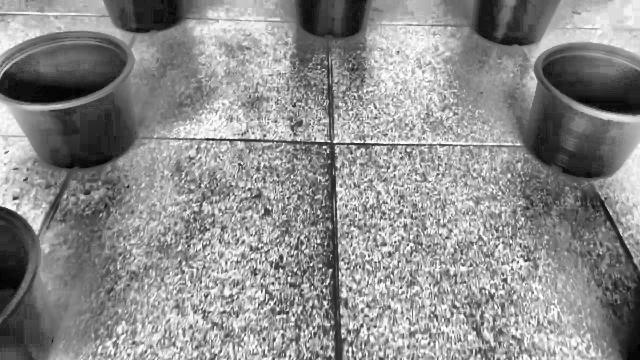pot: (0, 31, 138, 172), (523, 43, 640, 180)
